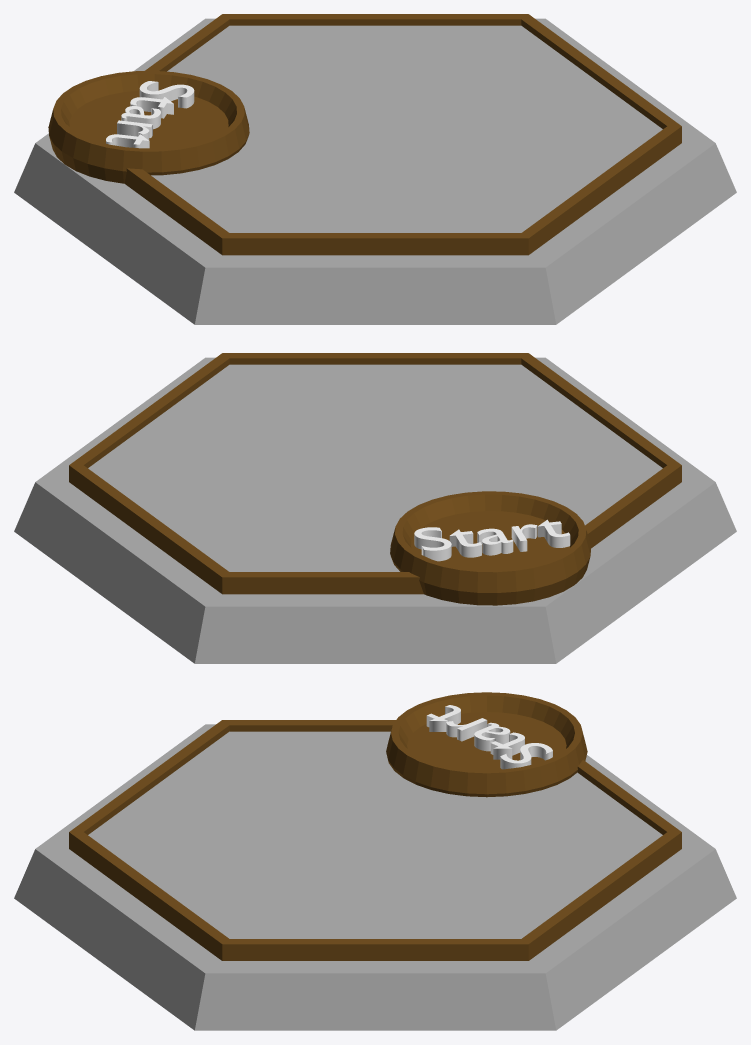
Rendered from mula board.fbx.
3 views of the same model, one above another, from view 1: azimuth 30°, elevation 25°; view 2: azimuth 150°, elevation 25°; view 3: azimuth 270°, elevation 25° (orthographic).
Parts seen in each view (by area): view 1: mula board; view 2: mula board; view 3: mula board.
Boxes of the visible parts, x1=… form: mula board: x1=14, y1=14, x2=736, y2=324; mula board: x1=14, y1=353, x2=736, y2=663; mula board: x1=14, y1=692, x2=736, y2=1030.
Size of the model in its own units: 315 by 45.72 by 364.
